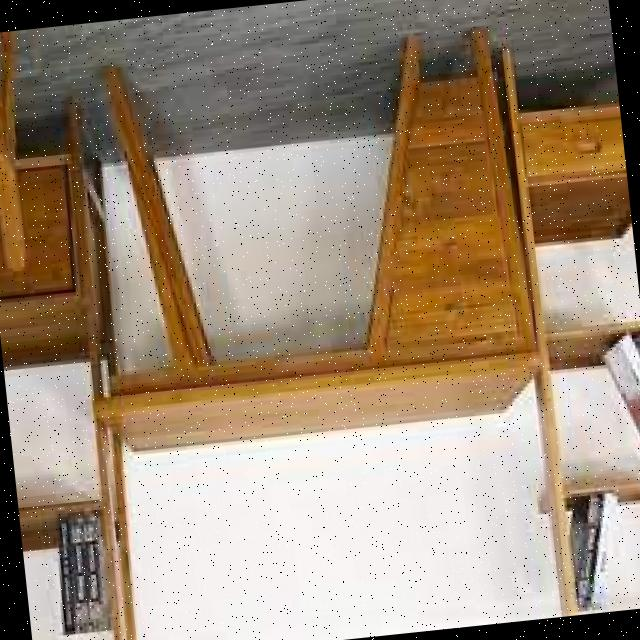Table: (60, 24, 562, 494)
